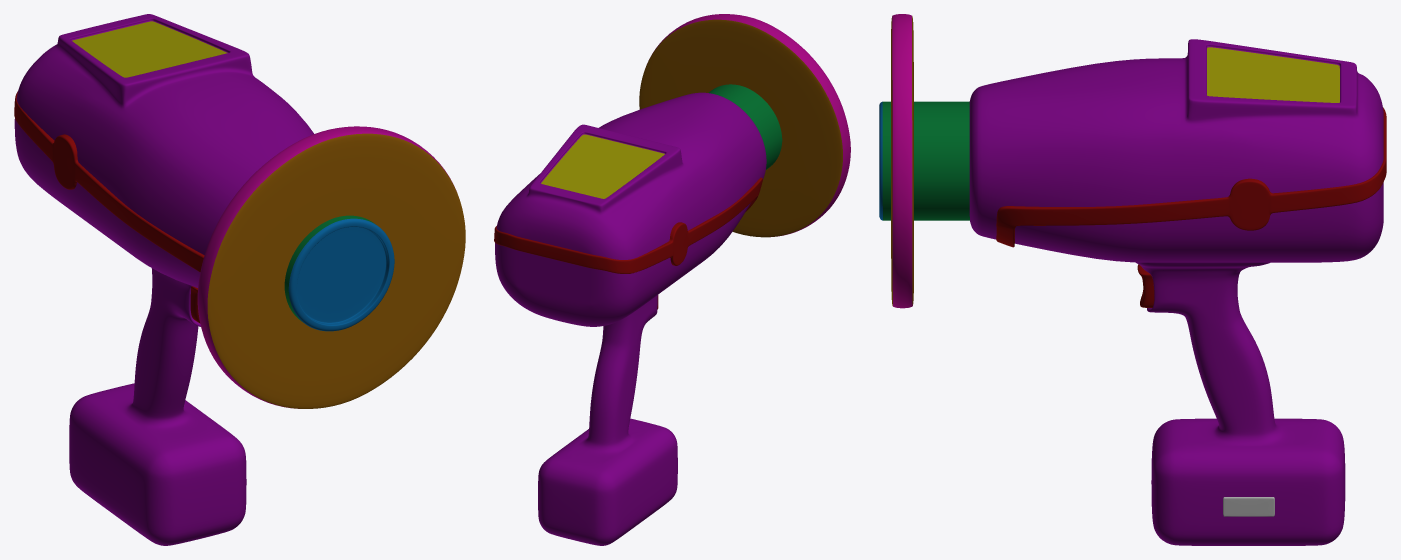
File: Handheld Xray.fbx
3 renders of one model, left to right at view 1: azimuth 30°, elevation 25°; view 2: azimuth 150°, elevation 25°; view 3: azimuth 270°, elevation 25°, orthographic. The views are drawn at different scales.
Parts seen in each view (by area): view 1: HandheldXray; view 2: HandheldXray; view 3: HandheldXray.
Part boxes in pixels (x1,y1,x2,y2): HandheldXray: [14, 14, 465, 545]; HandheldXray: [494, 14, 850, 545]; HandheldXray: [879, 14, 1386, 545].
Bounding box in the file's own units: 19.67 × 36.52 × 33.28.
